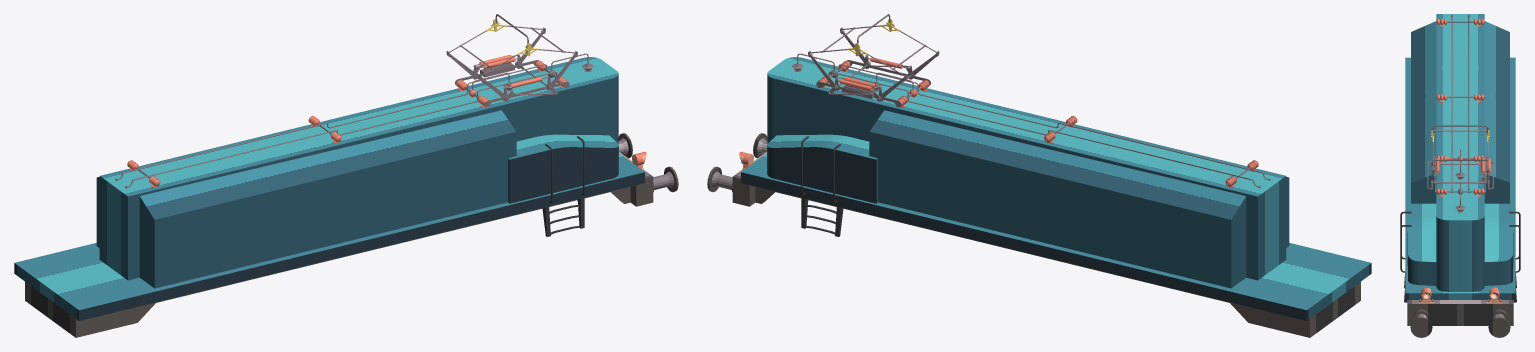
File: traintop.glb
The picture shows the model from 3 angles, left to right: view 1: azimuth 30°, elevation 25°; view 2: azimuth 150°, elevation 25°; view 3: azimuth 270°, elevation 25°; orthographic projection. The views are drawn at different scales.
Parts seen in each view (by area): view 1: Cube.001, e92.001, Cube, Cube.002; view 2: Cube.001, e92.001, Cube, Cube.002; view 3: Cube.001, Cube, e92.001, e92.004, e92.002, Cube.002.
Boxes of the visible parts, box(x1,y1,x2,y2) form: Cube.001: box(14, 57, 644, 320); e92.001: box(115, 14, 593, 188); Cube: box(25, 133, 678, 337); Cube.002: box(542, 198, 584, 236); Cube.001: box(741, 57, 1371, 320); e92.001: box(792, 14, 1270, 188); Cube: box(707, 133, 1360, 337); Cube.002: box(801, 198, 843, 236); Cube.001: box(1405, 14, 1515, 302); Cube: box(1407, 300, 1513, 337); e92.001: box(1427, 14, 1493, 212); e92.004: box(1400, 211, 1520, 272); e92.002: box(1419, 287, 1501, 303); Cube.002: box(1404, 273, 1516, 302).
Size of the model in its own units: 24.55 by 7.34 by 4.98.
1 material, 1 textured.
